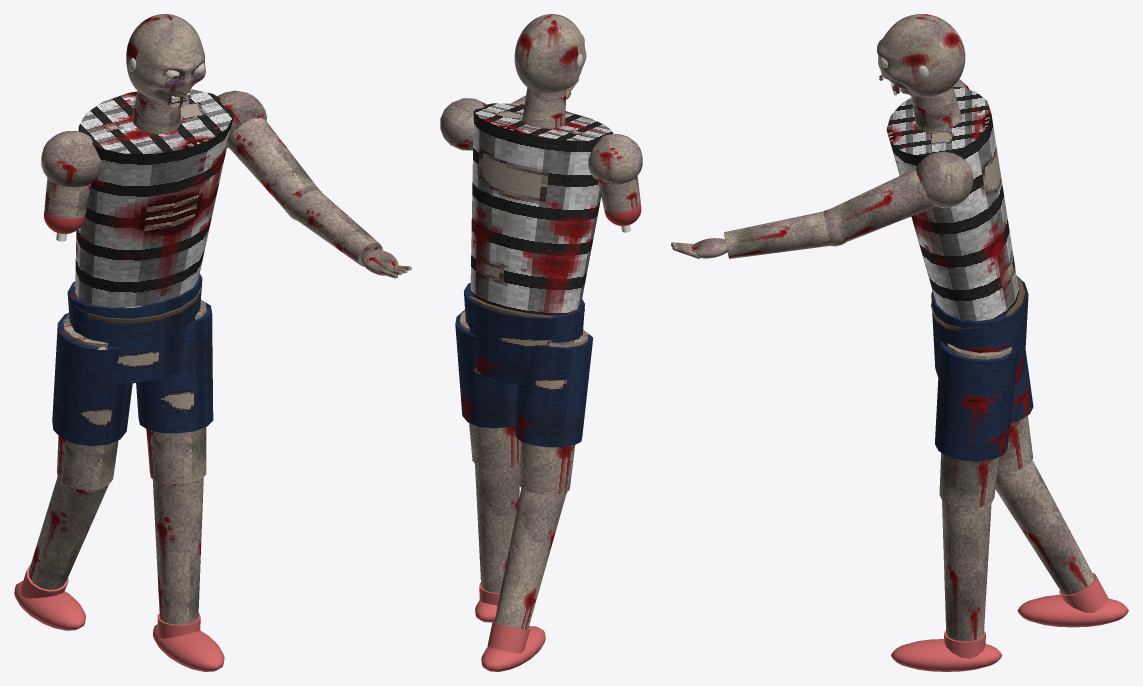
The model's file is Zombie_054.glb.
The picture shows the model from 3 angles, left to right: view 1: azimuth 30°, elevation 25°; view 2: azimuth 150°, elevation 25°; view 3: azimuth 270°, elevation 25°; orthographic projection. The views are drawn at different scales.
Visible parts, largest first — view 1: Zombie_054, object 9, object 3, object 4; view 2: Zombie_054, object 9; view 3: Zombie_054, object 9, object 3.
Boxes of the visible parts, x1,y1,x2,y2 form: Zombie_054: (14, 89, 316, 671); object 9: (126, 14, 205, 104); object 3: (292, 190, 382, 266); object 4: (361, 249, 398, 275); Zombie_054: (440, 88, 642, 671); object 9: (514, 14, 586, 93); Zombie_054: (830, 79, 1128, 671); object 9: (877, 14, 965, 97); object 3: (724, 211, 830, 258).
Bounding box in the file's own units: 0.6449 × 1.78 × 1.16.
17 materials, 5 textured.
